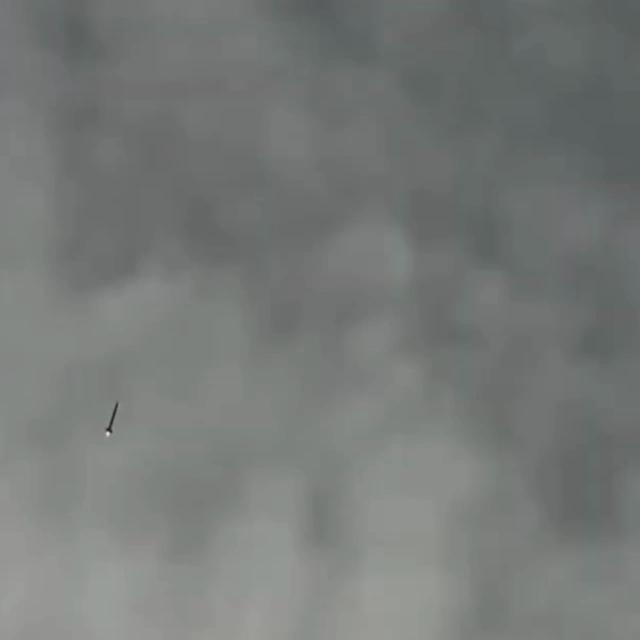rocket: (103, 403, 120, 438)
